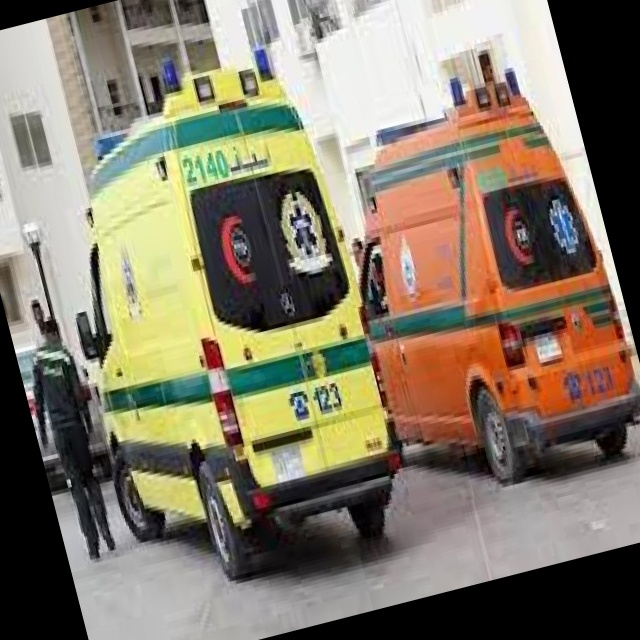Ambulance: (13, 25, 423, 604), (302, 26, 640, 511)
person: (10, 309, 123, 565)
